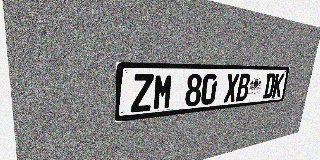0: (200, 74, 218, 105)
8: (184, 74, 203, 107)
B: (236, 74, 251, 101)
D: (263, 73, 276, 99)
K: (272, 73, 285, 98)
M: (152, 74, 174, 110)
X: (223, 74, 239, 103)
Z: (131, 74, 154, 113)
